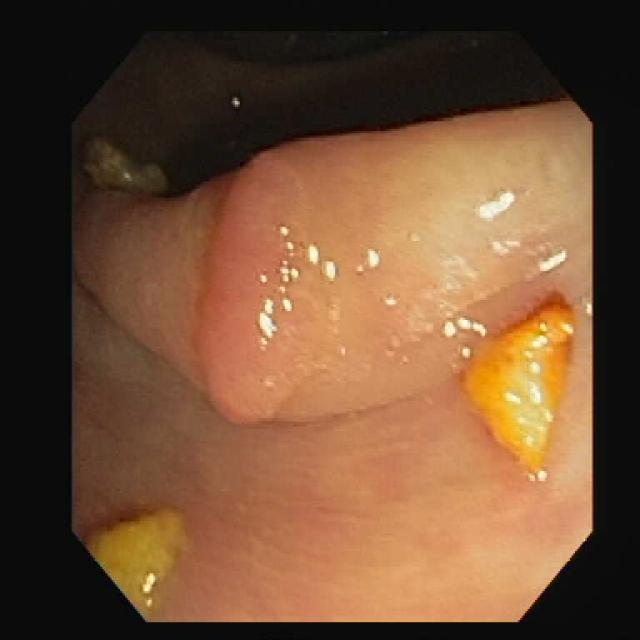tumor: (198, 153, 313, 416)
